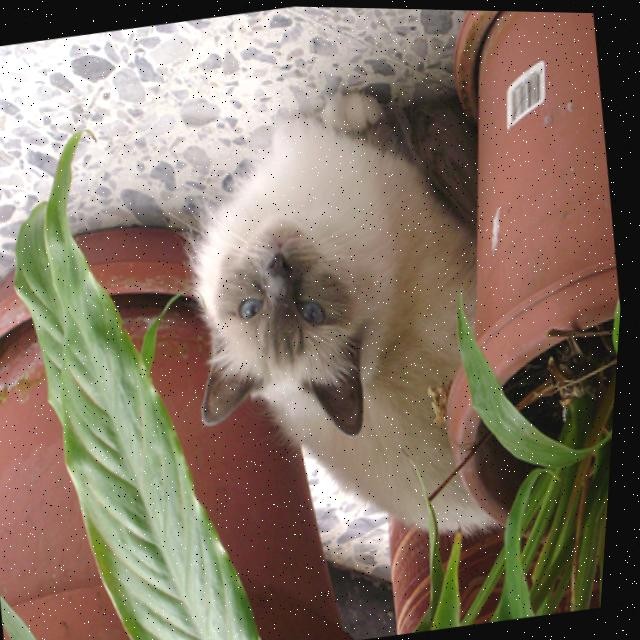Birman: (146, 60, 547, 578)
